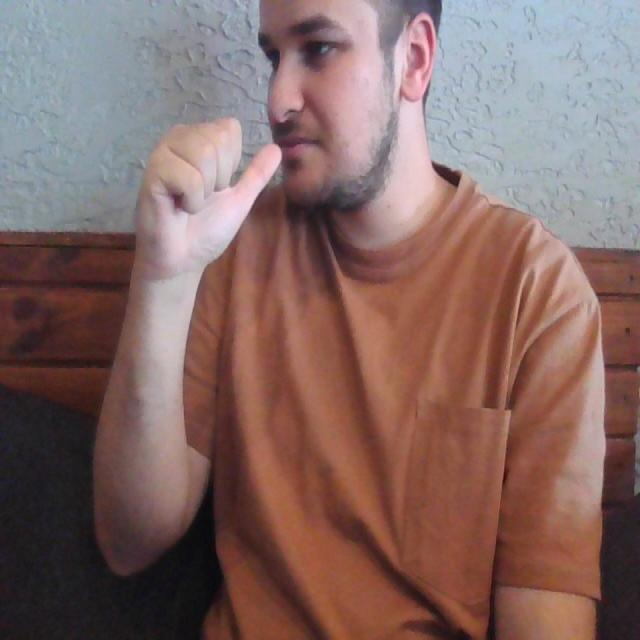icmek: (105, 98, 335, 280)
